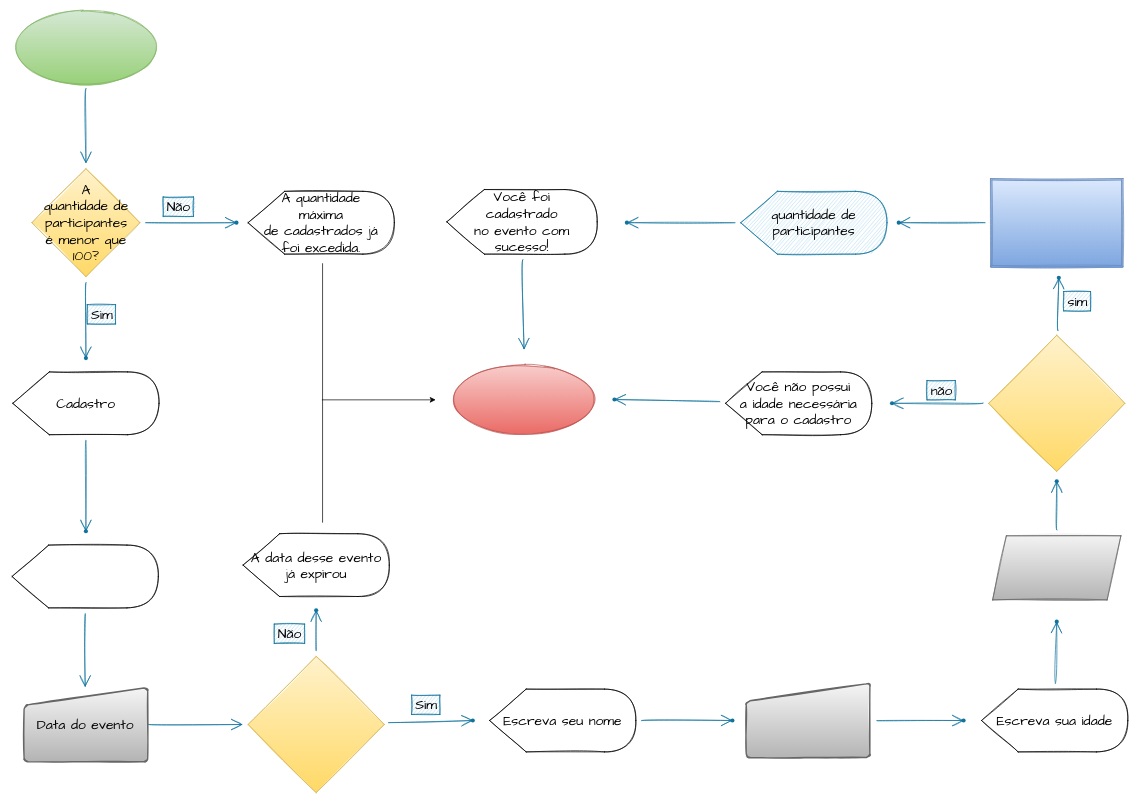
This 1140x805 diagram has some shape labels left out. The box of each missing label's shape, as (x1, y1, x2, y2) in pixels:
A data do evento é posterior A data atual?: (247, 656, 384, 793)
A idade é maior ou igual a 18?: (988, 335, 1125, 471)
Escreva a data do evento: (11, 544, 158, 608)
Fim: (450, 364, 598, 435)
idade: (992, 535, 1121, 600)
inicio: (11, 12, 160, 83)
nome: (745, 682, 870, 758)
quantidade de participantes = quantidade de participantes + 1: (990, 178, 1123, 267)
